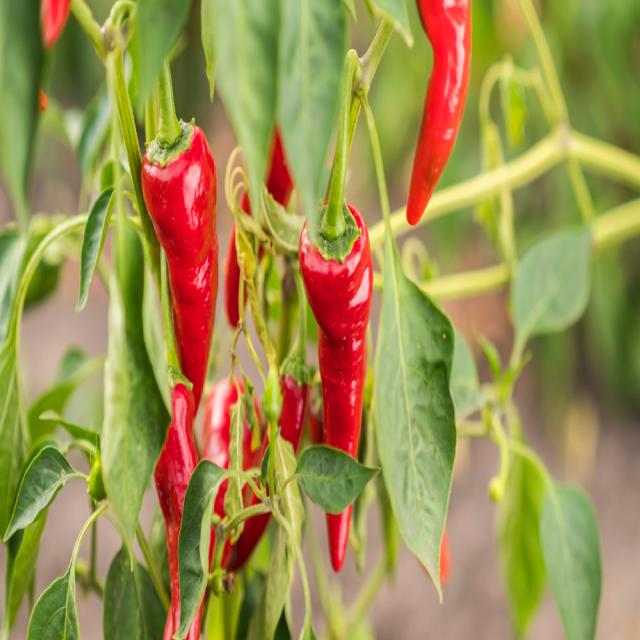Ripe: (299, 204, 372, 574), (141, 127, 218, 412), (154, 382, 199, 638), (201, 377, 244, 468)
